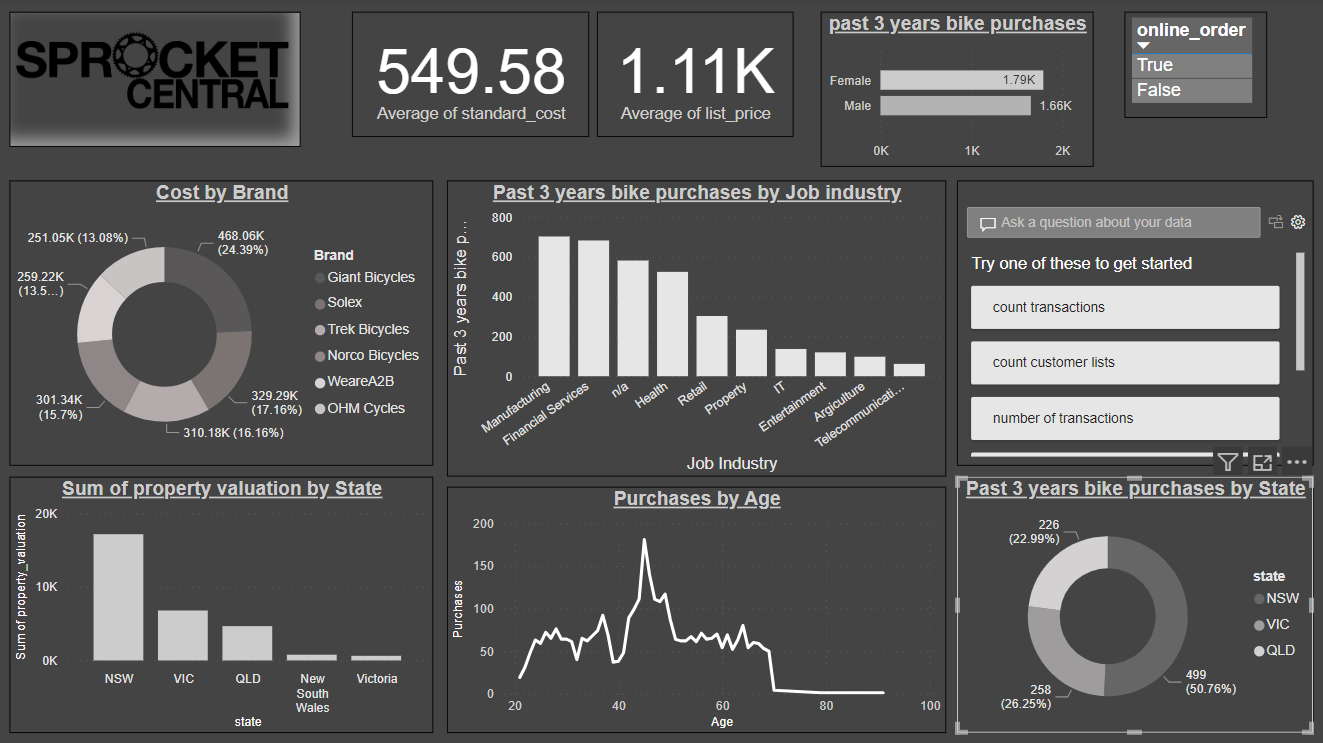

This screenshot's page, from the dashboard's own definition file:
{"tool":"powerbi","page":{"name":"Page 1","canvas":[1280,720],"ordinal":0},"visuals":[{"type":"lineChart","title":"Purchases by Age","fields":{"Category":["CustomerDemographic.Age"],"Y":["CountNonNull(CustomerDemographic.Number of same age cx)"]},"box":[434.2,471.6,481.2,237.6],"z":0},{"type":"clusteredBarChart","title":"past 3 years bike purchases","fields":{"Category":["CustomerDemographic.gender"],"Y":["CountNonNull(CustomerDemographic.past_3_years_bike_related_purchases)"]},"box":[794.8,13.3,262.9,149.5],"z":1000},{"type":"card","fields":{"Values":["Avg(Transactions.list_price)"]},"box":[578.9,13.3,189.3,120.6],"z":2000},{"type":"card","fields":{"Values":["Avg(Transactions.standard_cost)"]},"box":[342.5,13.3,229.1,120.6],"z":3000},{"type":"columnChart","title":"Past 3 years bike purchases by Job industry","fields":{"Category":["CustomerDemographic.job_industry_category"],"Y":["CountNonNull(CustomerDemographic.past_3_years_bike_related_purchases)"]},"box":[434.2,176.1,481.2,285.8],"z":4000},{"type":"image","box":[12.1,13.3,281,130.3],"z":5000},{"type":"donutChart","title":"Cost by Brand","fields":{"Category":["Transactions.brand"],"Y":["Sum(Transactions.standard_cost)"]},"box":[12.1,176.1,408.8,275],"z":6000},{"type":"donutChart","title":"Past 3 years bike purchases by State","fields":{"Category":["CustomerList.state"],"Y":["CountNonNull(CustomerList.past_3_years_bike_related_purchases)"]},"box":[926.2,461.9,343.7,247.2],"z":7000},{"type":"columnChart","title":"Sum of property valuation by State","fields":{"Category":["CustomerAddress.state"],"Y":["Sum(CustomerAddress.property_valuation)"]},"box":[12.1,461.9,408.8,247.2],"z":8000},{"type":"tableEx","fields":{"Values":["Transactions.online_order"]},"box":[1087.8,13.3,137.5,102.5],"z":9000},{"type":"qnaVisual","box":[926.2,176.1,343.7,275],"z":10000}]}

Visuals, with their boxes in screenshot pixels (x1, y1, x2, y2), scaled from the page's 1280x720 canvas onto the 1323x743 screenshot:
"Purchases by Age" lineChart: BBox(449, 487, 946, 732)
"past 3 years bike purchases" clusteredBarChart: BBox(822, 14, 1093, 168)
card - Avg(Transactions.list_price): BBox(598, 14, 794, 138)
card - Avg(Transactions.standard_cost): BBox(354, 14, 591, 138)
"Past 3 years bike purchases by Job industry" columnChart: BBox(449, 182, 946, 477)
image: BBox(13, 14, 303, 148)
"Cost by Brand" donutChart: BBox(13, 182, 435, 466)
"Past 3 years bike purchases by State" donutChart: BBox(957, 477, 1313, 732)
"Sum of property valuation by State" columnChart: BBox(13, 477, 435, 732)
tableEx - Transactions.online_order: BBox(1124, 14, 1266, 119)
qnaVisual: BBox(957, 182, 1313, 466)
